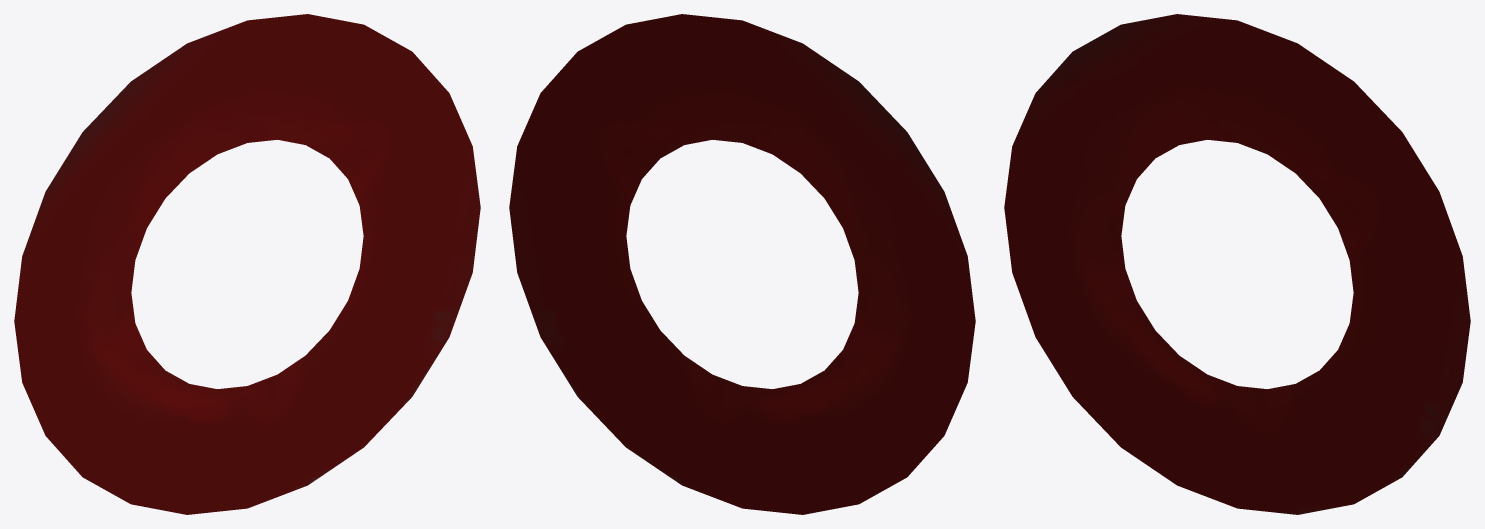
File: battle_player_life.DAE
3 views of the same model, side by side, from view 1: azimuth 30°, elevation 25°; view 2: azimuth 150°, elevation 25°; view 3: azimuth 330°, elevation 25° (orthographic).
Visible parts, largest first — view 1: Cylinder105; view 2: Cylinder105; view 3: Cylinder105.
Boxes of the visible parts, box(x1,y1,x2,y2) form: Cylinder105: box(14, 14, 480, 514); Cylinder105: box(509, 14, 975, 514); Cylinder105: box(1004, 14, 1470, 514).
Bounding box in the file's own units: 98.71 × 98.71 × 0.
1 material, 1 textured.
